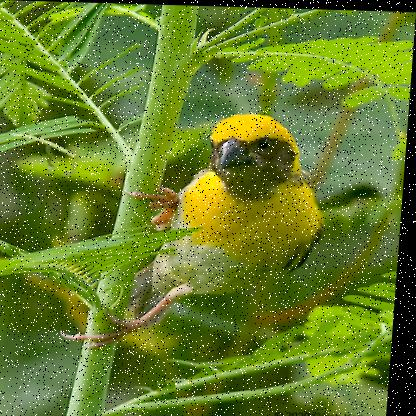Burung: (63, 107, 332, 354)
